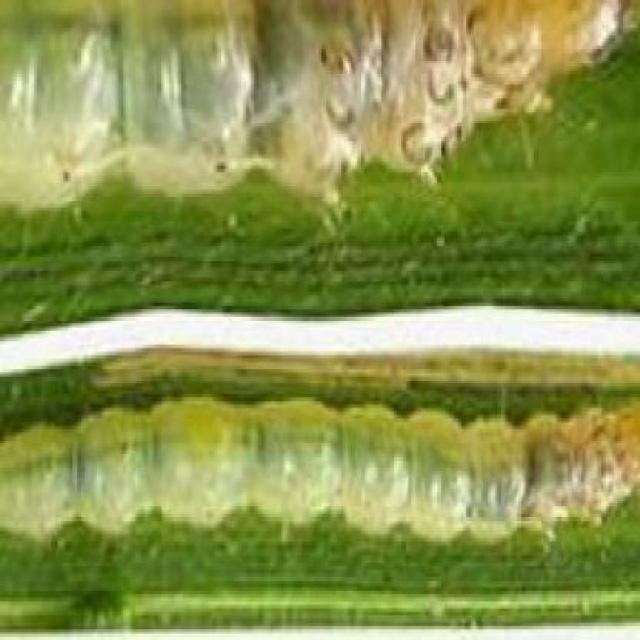leaf-folder: (38, 371, 640, 586), (1, 3, 593, 212)
